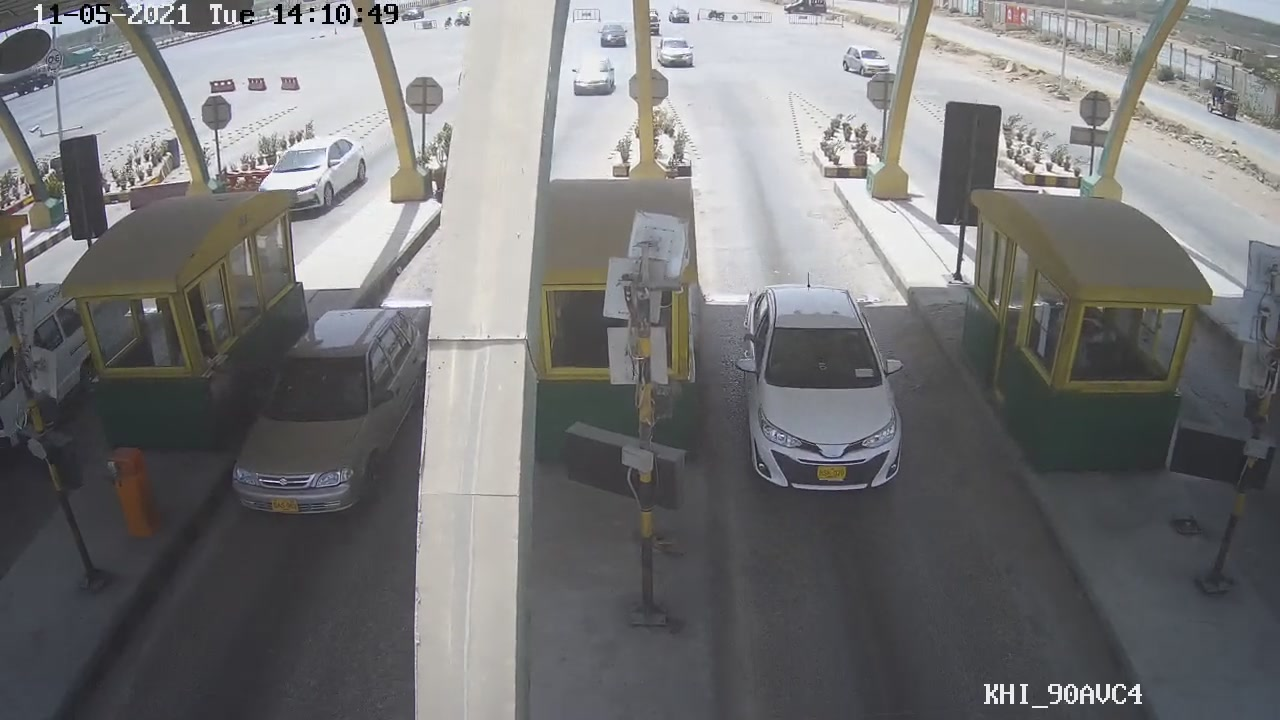F1: (728, 270, 912, 502)
